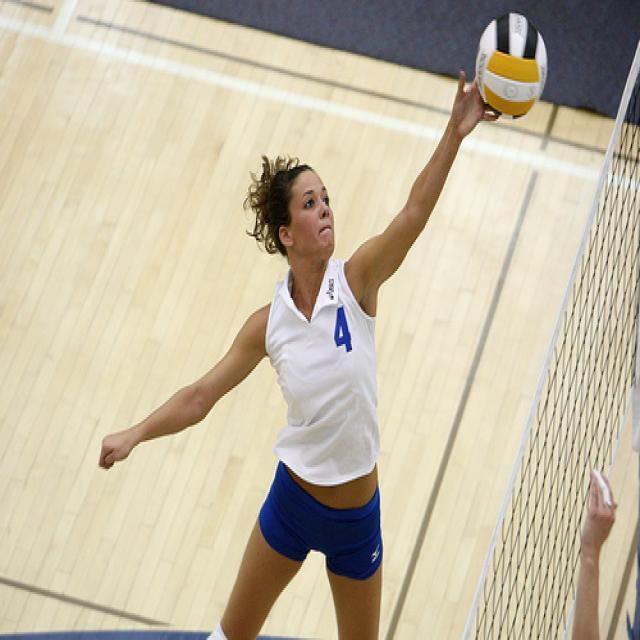volleyball: (474, 12, 548, 120)
